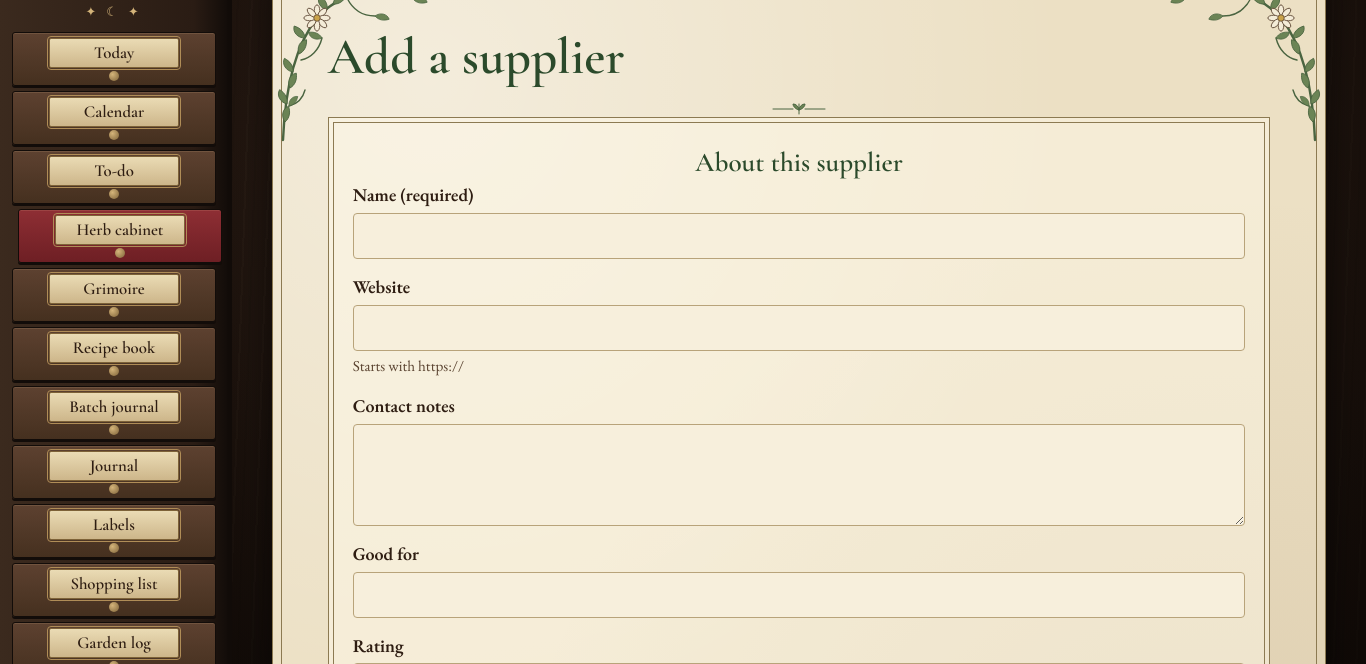
it: asks before leaving a changed form
This screenshot has width=1366, height=664.
Type "x" into the field labelled "Name (required)" at (799, 236), box [353,213,1245,259]
(page scrolled)
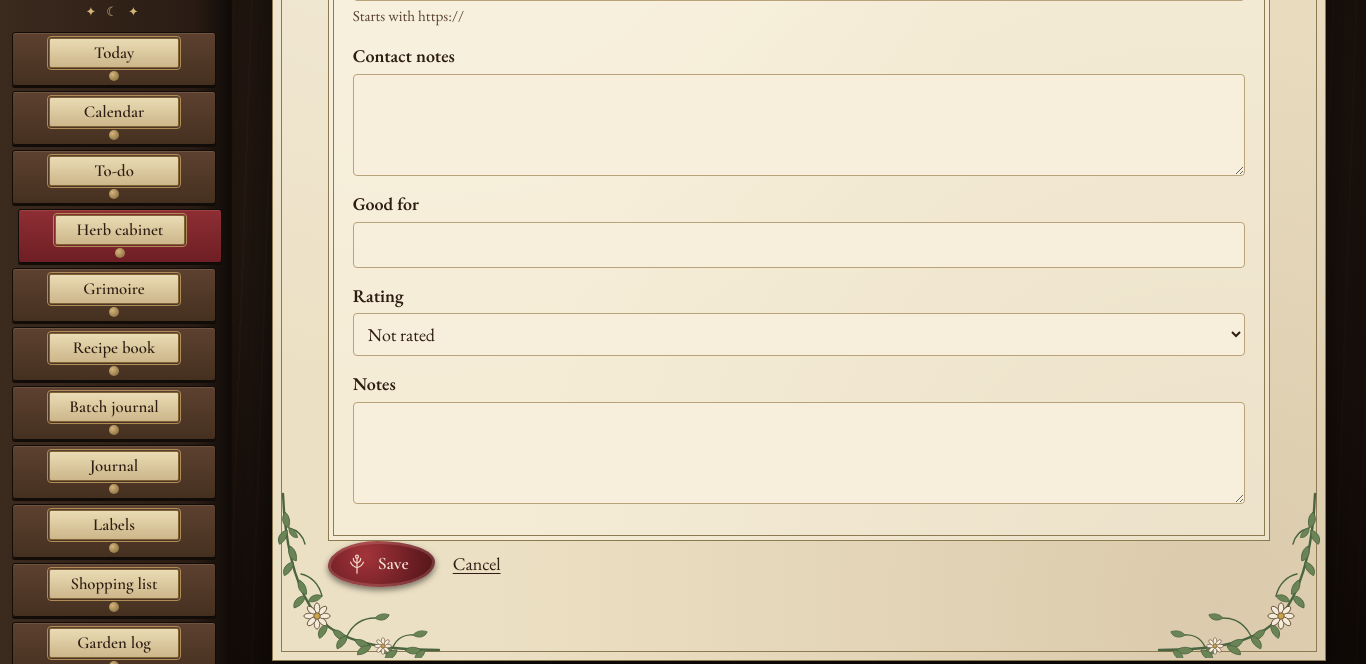
Click the link "Cancel" at (477, 564), box [453,550,500,578]
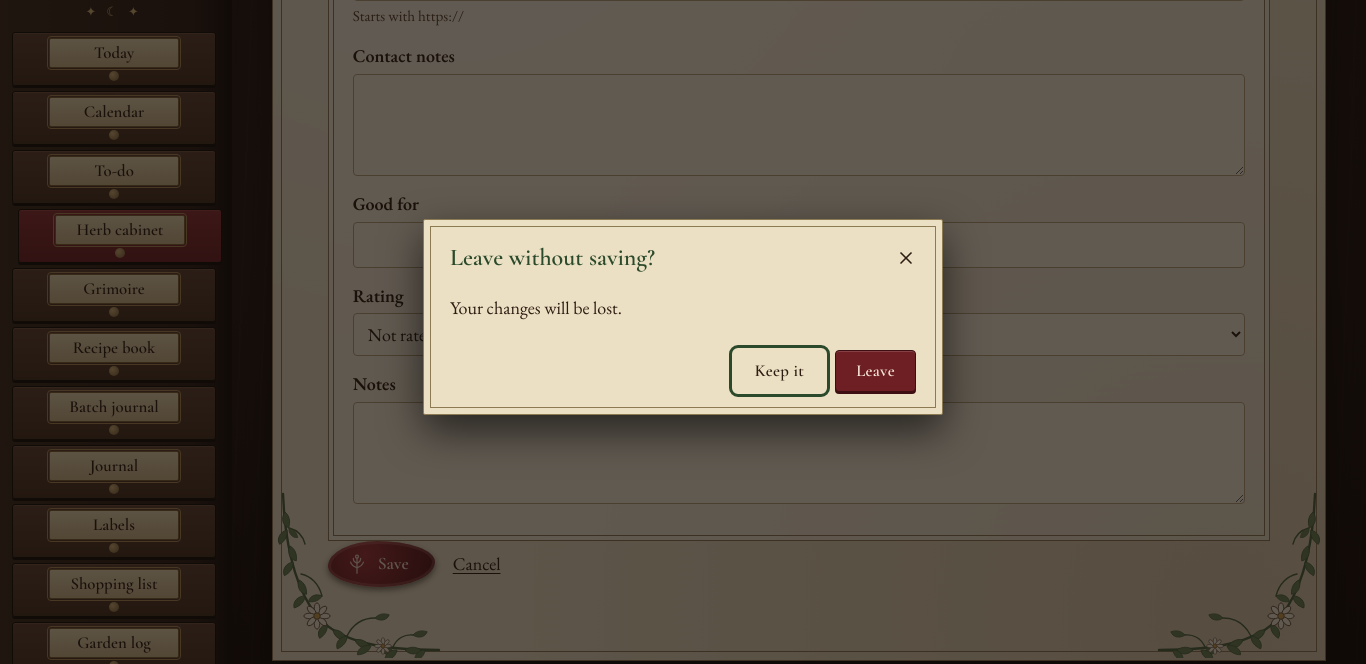
Result: the heading "Leave without saving?" is shown at [450,245,655,271]
